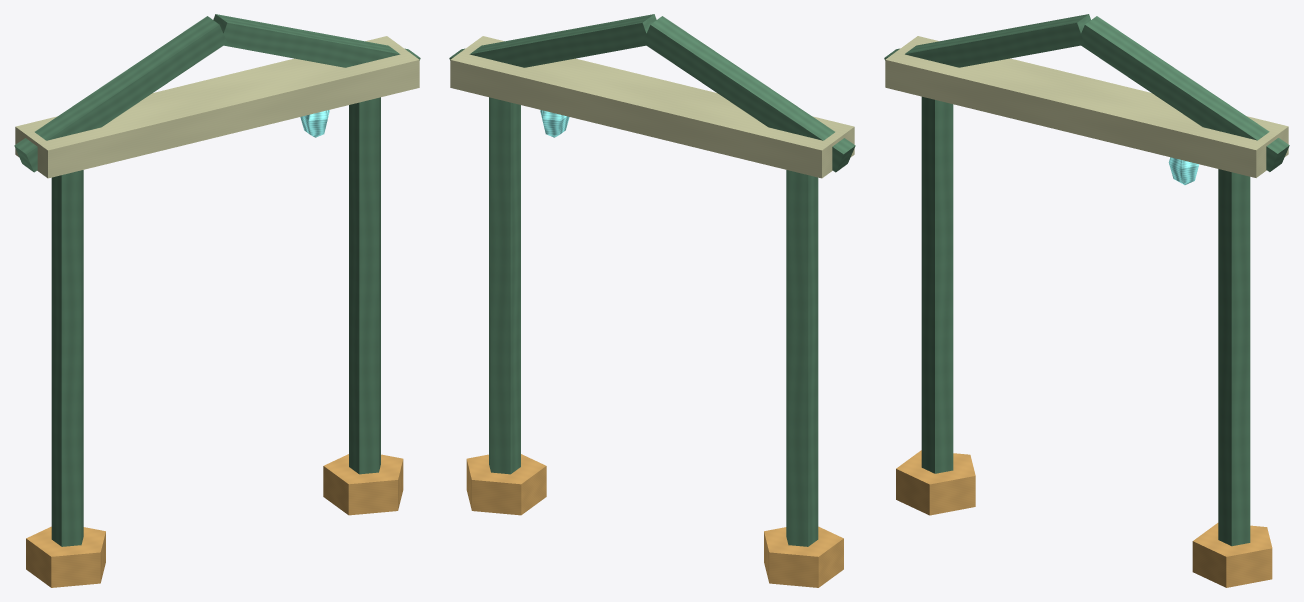
Rendered from atlas100-s001-a09.lod1.glb.
The picture shows the model from 3 angles, left to right: view 1: azimuth 30°, elevation 25°; view 2: azimuth 150°, elevation 25°; view 3: azimuth 330°, elevation 25°; orthographic projection.
Parts seen in each view (by area): view 1: atlas100-s001-a09:part-004, atlas100-s001-a09:part-000, atlas100-s001-a09:part-002, atlas100-s001-a09:part-005, atlas100-s001-a09:part-006, atlas100-s001-a09:part-003, atlas100-s001-a09:part-001, atlas100-s001-a09:part-008; view 2: atlas100-s001-a09:part-004, atlas100-s001-a09:part-000, atlas100-s001-a09:part-002, atlas100-s001-a09:part-005, atlas100-s001-a09:part-006, atlas100-s001-a09:part-003, atlas100-s001-a09:part-001, atlas100-s001-a09:part-008; view 3: atlas100-s001-a09:part-004, atlas100-s001-a09:part-000, atlas100-s001-a09:part-002, atlas100-s001-a09:part-006, atlas100-s001-a09:part-005, atlas100-s001-a09:part-003, atlas100-s001-a09:part-001, atlas100-s001-a09:part-008.
Boxes of the visible parts, x1,y1,x2,y2 form: atlas100-s001-a09:part-004: (15,36,419,178); atlas100-s001-a09:part-000: (51,170,83,546); atlas100-s001-a09:part-002: (349,97,380,474); atlas100-s001-a09:part-005: (14,16,227,172); atlas100-s001-a09:part-006: (213,14,420,67); atlas100-s001-a09:part-003: (323,454,403,515); atlas100-s001-a09:part-001: (26,526,105,587); atlas100-s001-a09:part-008: (300,110,329,137); atlas100-s001-a09:part-004: (450,36,854,178); atlas100-s001-a09:part-000: (786,170,818,546); atlas100-s001-a09:part-002: (489,97,520,474); atlas100-s001-a09:part-005: (643,16,855,172); atlas100-s001-a09:part-006: (449,14,656,67); atlas100-s001-a09:part-003: (466,454,546,515); atlas100-s001-a09:part-001: (764,526,843,587); atlas100-s001-a09:part-008: (540,110,569,137); atlas100-s001-a09:part-004: (885,36,1288,177); atlas100-s001-a09:part-000: (921,96,953,473); atlas100-s001-a09:part-002: (1218,169,1250,546); atlas100-s001-a09:part-006: (1080,16,1289,171); atlas100-s001-a09:part-005: (884,14,1090,67); atlas100-s001-a09:part-003: (1192,523,1272,587); atlas100-s001-a09:part-001: (896,450,975,515); atlas100-s001-a09:part-008: (1168,157,1198,184).
Bounding box in the file's own units: 2.65 × 3.31 × 0.4755.
Materials: 4 (4 with a texture image).
